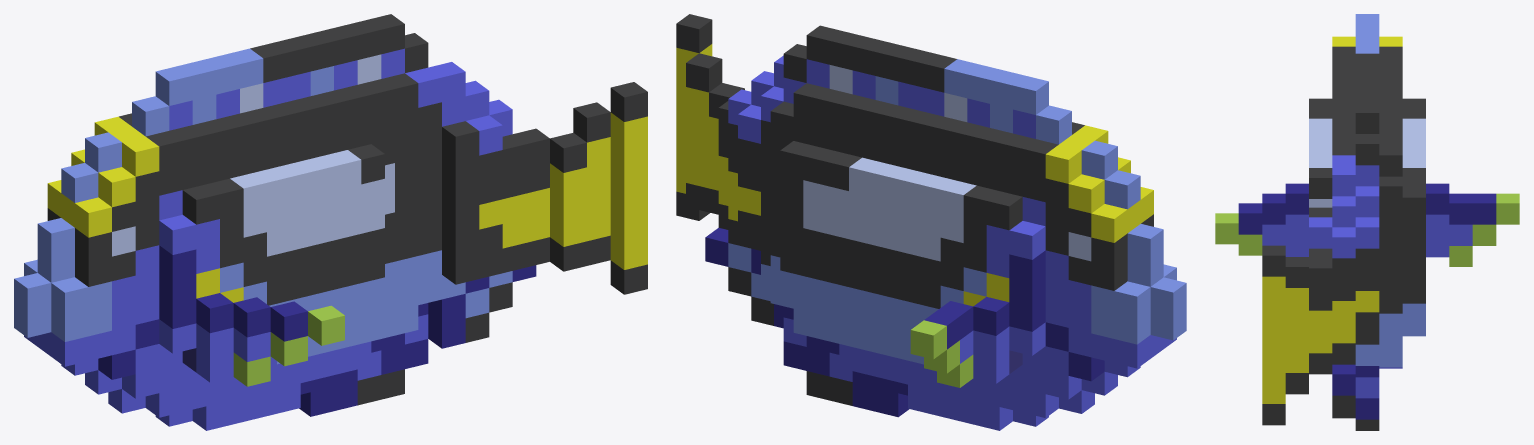
File: royal-blue-tang.glb
3 views of the same model, side by side, from view 1: azimuth 30°, elevation 25°; view 2: azimuth 150°, elevation 25°; view 3: azimuth 270°, elevation 25° (orthographic). The views are drawn at different scales.
Parts seen in each view (by area): view 1: 12; view 2: 12; view 3: 12.
Part boxes in pixels (x1,y1,x2,y2): 12: [14, 14, 647, 430]; 12: [676, 14, 1186, 430]; 12: [1215, 14, 1519, 430].
Bounding box in the file's own units: 2.4 × 1.5 × 1.3.
1 material, 1 textured.
